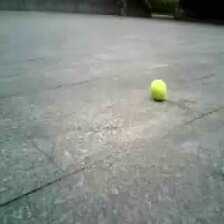tennis: (150, 80, 167, 99)
